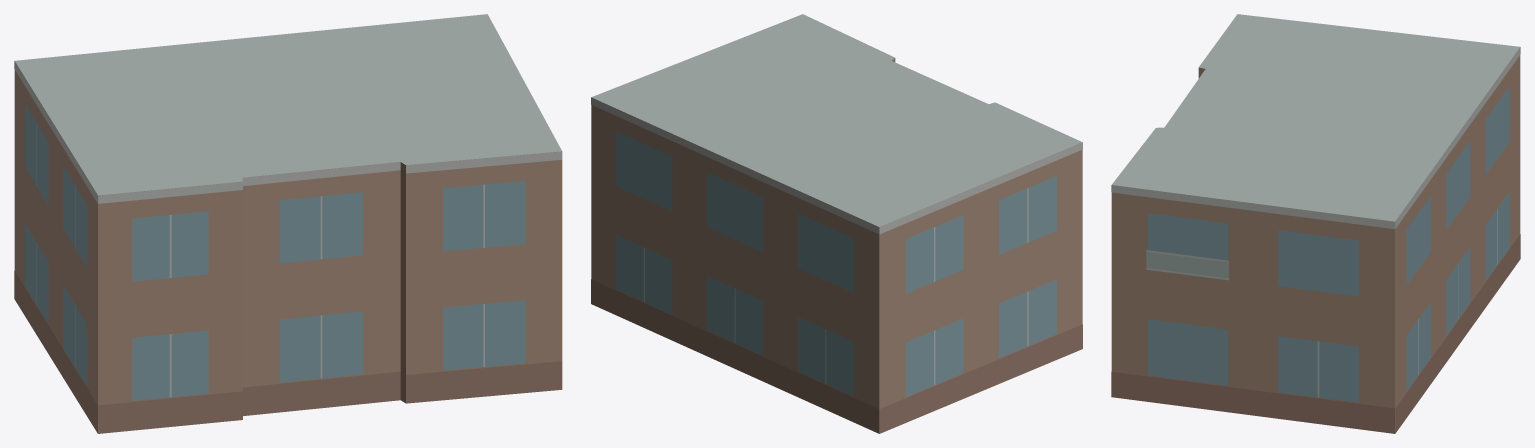
The model's file is survey-upis-32580391.glb.
3 renders of one model, left to right at view 1: azimuth 30°, elevation 25°; view 2: azimuth 150°, elevation 25°; view 3: azimuth 270°, elevation 25°, orthographic. The views are drawn at different scales.
Parts seen in each view (by area): view 1: survey-upis-32580391.tmp; view 2: survey-upis-32580391.tmp; view 3: survey-upis-32580391.tmp.
Part boxes in pixels (x1,y1,x2,y2): survey-upis-32580391.tmp: (14, 14, 562, 433); survey-upis-32580391.tmp: (591, 14, 1082, 433); survey-upis-32580391.tmp: (1111, 14, 1520, 433).
Size of the model in its own units: 14.5 by 6.9 by 12.07.
